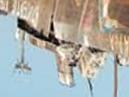rust: (103, 10, 129, 21)
